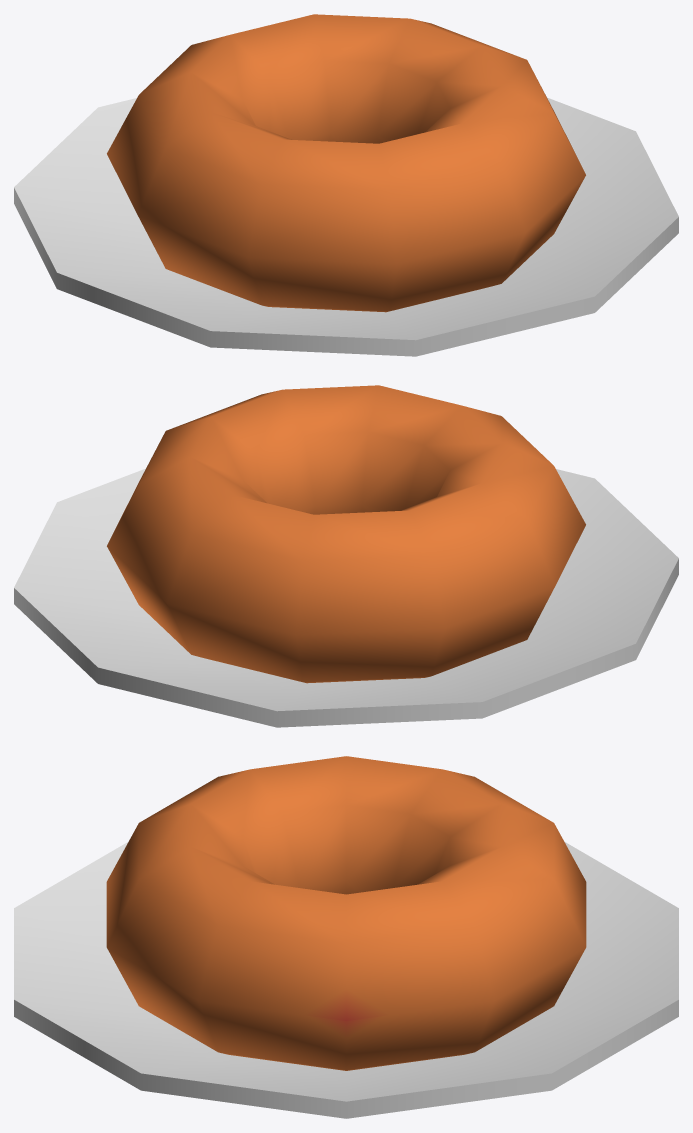
File: 50_prop_doughnut.FBX
3 views of the same model, one above another, from view 1: azimuth 30°, elevation 25°; view 2: azimuth 150°, elevation 25°; view 3: azimuth 270°, elevation 25° (orthographic). The views are drawn at different scales.
Parts seen in each view (by area): view 1: prop_doughnut; view 2: prop_doughnut; view 3: prop_doughnut.
Part boxes in pixels (left/top/right/bottom): prop_doughnut: left=14, top=14, right=678, bottom=356; prop_doughnut: left=14, top=385, right=678, bottom=727; prop_doughnut: left=14, top=756, right=678, bottom=1118.
Bounding box in the file's own units: 17.89 × 5.04 × 17.02.
